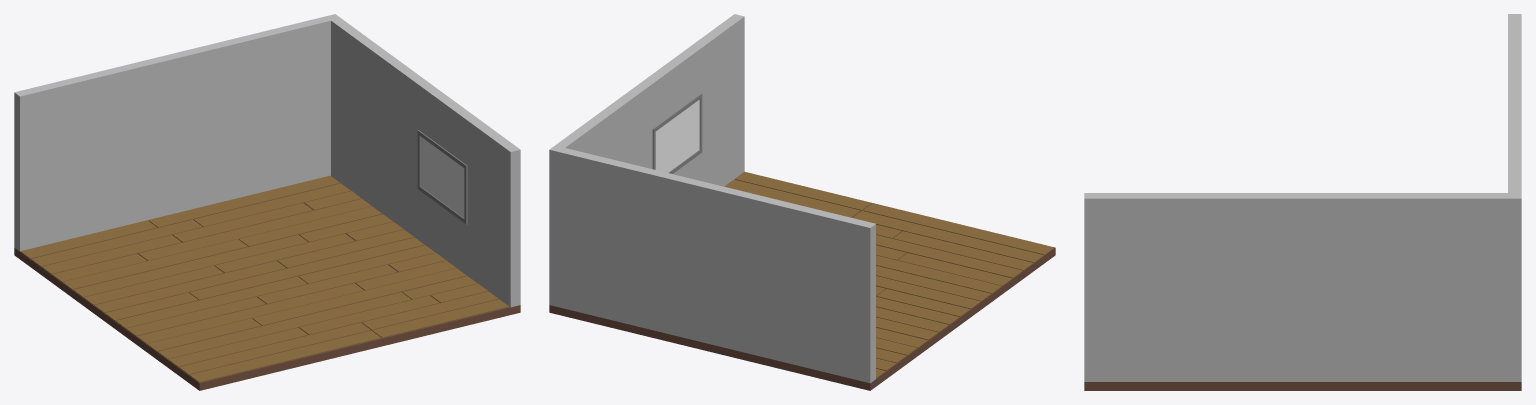
The model's file is Room.glb.
3 renders of one model, left to right at view 1: azimuth 30°, elevation 25°; view 2: azimuth 150°, elevation 25°; view 3: azimuth 270°, elevation 25°, orthographic. The views are drawn at different scales.
Visible parts, largest first — view 1: Plane, Cube.024, Plane.002_Plane.009; view 2: Plane, Cube.024, Plane.002_Plane.009; view 3: Plane.
Part boxes in pixels (box(x1,y1,x2,y2)): Plane: box(14, 14, 520, 390); Cube.024: box(20, 175, 508, 382); Plane.002_Plane.009: box(417, 130, 467, 224); Plane: box(549, 14, 1055, 390); Cube.024: box(724, 172, 1054, 378); Plane.002_Plane.009: box(652, 93, 702, 173); Plane: box(1084, 14, 1521, 390).
Bounding box in the file's own units: 77.45 × 37.56 × 77.45.
